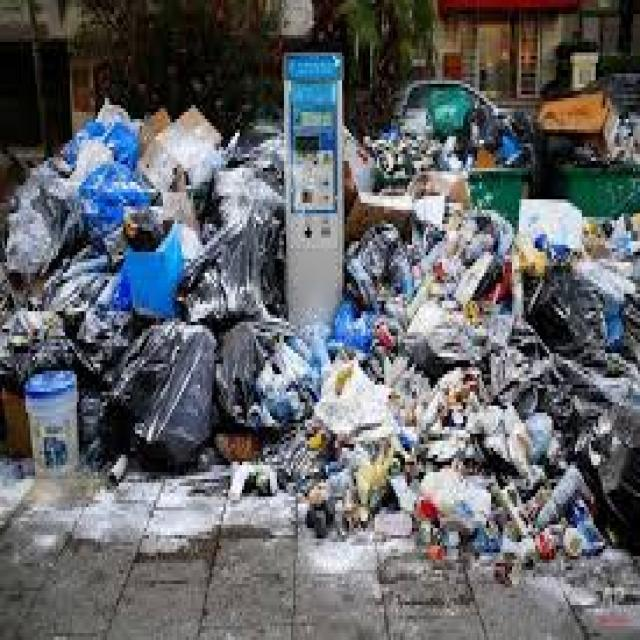Trashbag: (91, 319, 221, 475), (189, 210, 285, 328), (0, 308, 69, 394), (518, 268, 580, 343)
